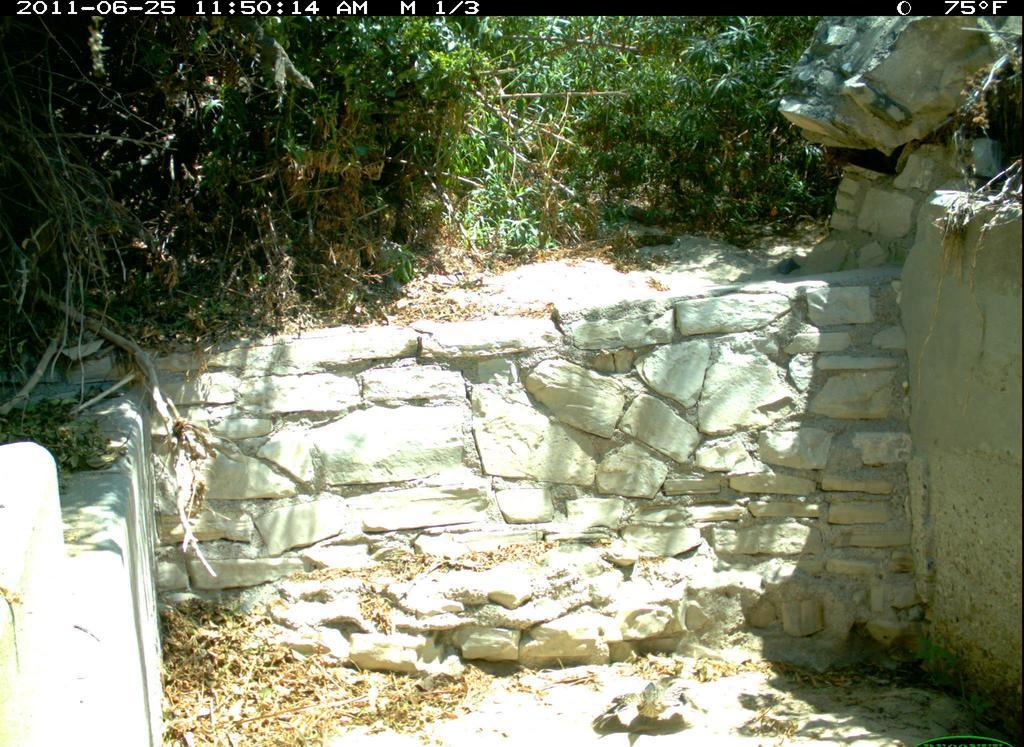bird: (594, 671, 714, 738)
